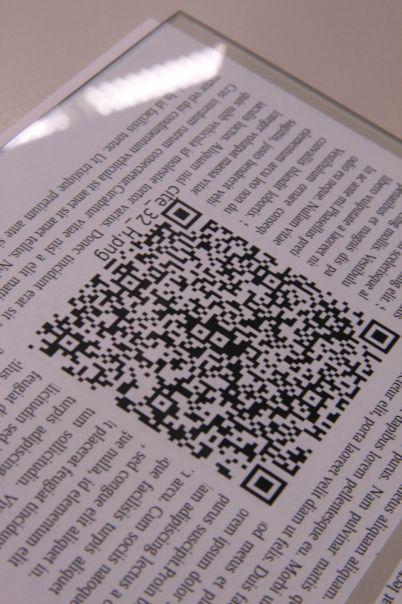Finder pattern: (239, 458, 290, 513), (359, 316, 401, 357), (163, 195, 204, 233)
